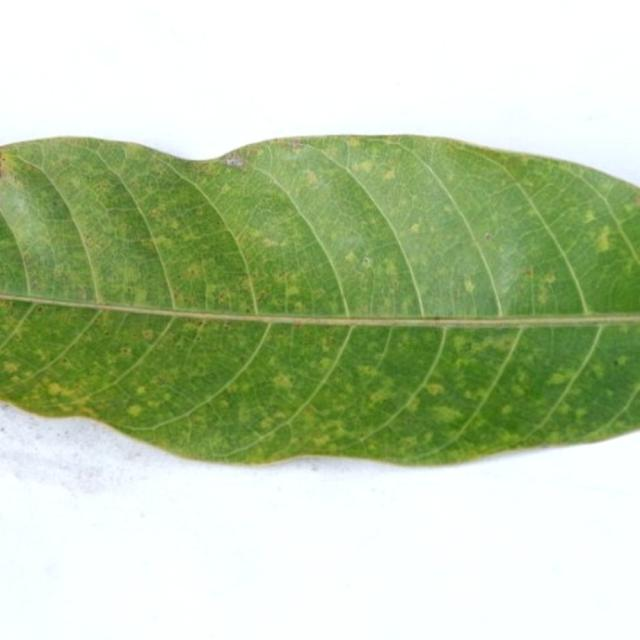Mango: (0, 137, 639, 463)
Powdery_Mildew: (586, 220, 638, 302), (108, 255, 148, 295), (38, 377, 87, 403), (269, 366, 305, 392), (534, 271, 560, 307), (52, 261, 79, 293), (2, 160, 25, 189), (429, 405, 461, 422), (8, 318, 31, 340), (153, 235, 179, 253), (357, 364, 384, 380), (204, 283, 223, 303), (183, 263, 204, 281), (323, 420, 348, 435), (596, 229, 612, 252), (369, 389, 392, 404), (302, 169, 320, 186), (355, 159, 376, 173), (224, 154, 245, 168), (384, 259, 400, 277), (46, 382, 65, 396), (546, 373, 568, 385), (259, 236, 279, 249), (285, 283, 302, 298), (451, 336, 468, 351), (425, 383, 444, 396), (311, 434, 330, 447), (318, 358, 335, 372), (237, 406, 251, 423), (216, 290, 232, 304), (580, 303, 597, 316), (401, 435, 419, 447), (582, 209, 596, 224), (463, 278, 476, 294), (591, 364, 605, 378), (381, 167, 396, 180), (126, 405, 142, 417), (259, 417, 275, 429), (3, 362, 20, 373), (344, 250, 358, 263), (320, 338, 334, 351), (624, 202, 638, 214), (148, 208, 163, 219), (346, 138, 362, 148), (543, 273, 556, 285), (615, 355, 629, 366), (409, 222, 421, 234), (141, 329, 154, 340), (219, 185, 232, 196), (575, 408, 588, 419), (84, 238, 97, 249), (0, 298, 13, 309), (501, 405, 514, 415), (548, 431, 561, 441), (174, 292, 185, 303), (135, 385, 147, 395), (290, 140, 303, 149), (293, 301, 304, 311), (120, 347, 131, 356), (170, 221, 180, 230), (157, 374, 167, 383), (238, 234, 248, 243), (293, 321, 304, 329), (163, 393, 172, 402), (362, 257, 371, 266), (524, 268, 534, 276), (484, 233, 494, 241), (223, 322, 231, 329), (432, 316, 443, 321), (636, 193, 640, 205), (198, 321, 205, 327), (62, 358, 69, 364), (51, 201, 58, 207), (245, 307, 251, 313), (37, 307, 43, 312)
